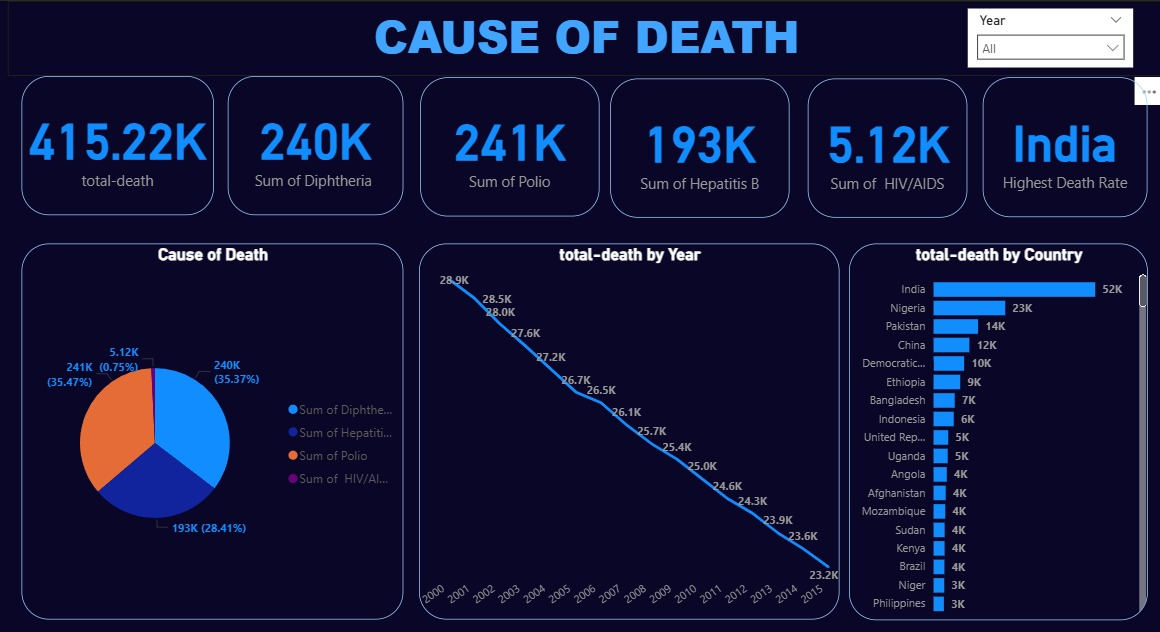

The dashboard page shown, as its layout file describes it:
{"tool":"powerbi","page":{"name":"cause of death","canvas":[1280,720],"ordinal":2},"visuals":[{"type":"textbox","box":[9.6,0,1270.7,82.3],"z":0},{"type":"card","fields":{"Values":["Life Expectancy Data.total-death"]},"box":[24.2,82.7,211,152.5],"z":1000},{"type":"pieChart","title":"Cause of Death","fields":{"Y":["Sum(Life Expectancy Data.Diphtheria )","Sum(Life Expectancy Data.Hepatitis B)","Sum(Life Expectancy Data.Polio)","Sum(Life Expectancy Data. HIV/AIDS)"]},"box":[24.9,266.2,419.2,413],"z":2000},{"type":"card","fields":{"Values":["Sum(Life Expectancy Data.Hepatitis B)"]},"box":[671.4,85.5,196.7,152.5],"z":3000},{"type":"card","fields":{"Values":["Sum(Life Expectancy Data. HIV/AIDS)"]},"box":[888,85.5,175.3,152.5],"z":4000},{"type":"card","fields":{"Values":["Sum(Life Expectancy Data.Diphtheria )"]},"box":[250.9,82.7,192.4,152.5],"z":5000},{"type":"card","fields":{"Values":["Sum(Life Expectancy Data.Polio)"]},"box":[461.8,84.1,196.7,152.5],"z":6000},{"type":"lineChart","fields":{"Category":["Life Expectancy Data.Year"],"Y":["Life Expectancy Data.total-death"]},"box":[461.5,266.2,461.5,413],"z":7000},{"type":"slicer","fields":{"Values":["Life Expectancy Data.Year"]},"box":[1063.6,8.7,181.6,64.7],"z":8000},{"type":"barChart","fields":{"Y":["Life Expectancy Data.total-death"],"Category":["Life Expectancy Data.Country"]},"box":[933.6,266.5,327.8,413.4],"z":9000},{"type":"card","fields":{"Values":["Min(Life Expectancy Data.Country)"]},"box":[1080.4,84.1,181,153.9],"z":10000}]}

Visuals, with their boxes in screenshot pixels (x1, y1, x2, y2):
textbox: BBox(12, 0, 1151, 74)
card - Life Expectancy Data.total-death: BBox(25, 74, 214, 211)
"Cause of Death" pieChart: BBox(25, 239, 401, 609)
card - Sum(Life Expectancy Data.Hepatitis B): BBox(605, 77, 781, 213)
card - Sum(Life Expectancy Data. HIV/AIDS): BBox(799, 77, 956, 213)
card - Sum(Life Expectancy Data.Diphtheria ): BBox(228, 74, 400, 211)
card - Sum(Life Expectancy Data.Polio): BBox(417, 75, 593, 212)
lineChart - Life Expectancy Data.Year x Life Expectancy Data.total-death: BBox(417, 239, 831, 609)
slicer - Life Expectancy Data.Year: BBox(957, 8, 1119, 66)
barChart - Life Expectancy Data.total-death x Life Expectancy Data.Country: BBox(840, 239, 1134, 610)
card - Min(Life Expectancy Data.Country): BBox(972, 75, 1134, 213)
